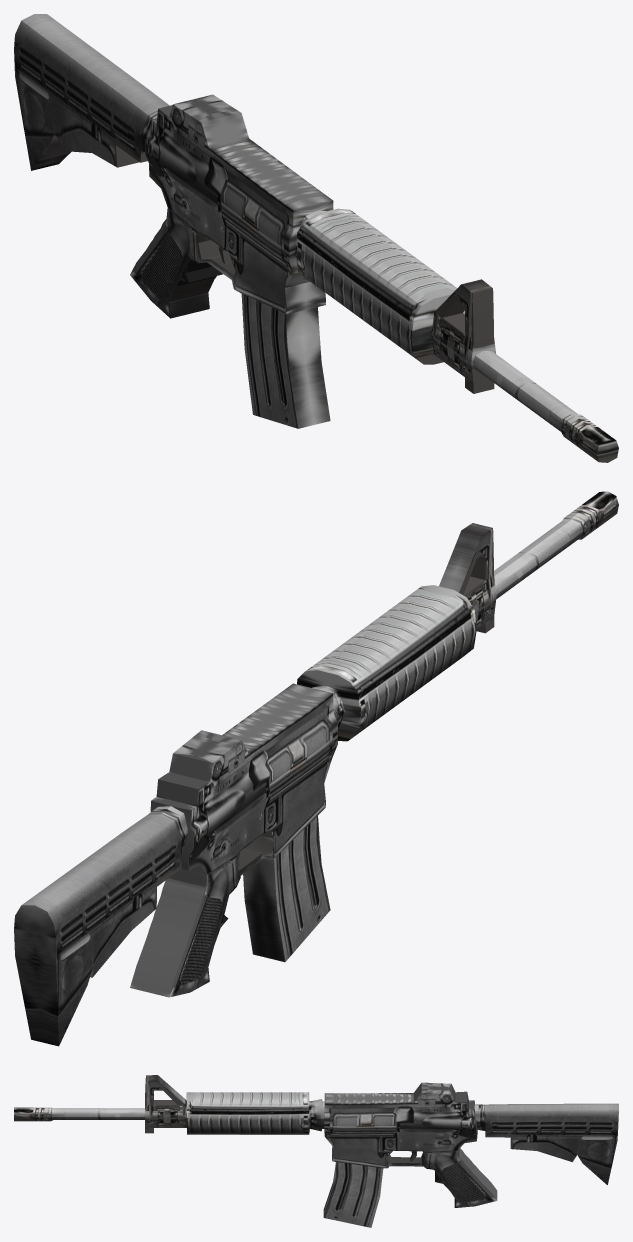
3 renders of one model, top to bottom at view 1: azimuth 30°, elevation 25°; view 2: azimuth 150°, elevation 25°; view 3: azimuth 270°, elevation 25°, orthographic. The views are drawn at different scales.
Parts seen in each view (by area): view 1: Box005; view 2: Box005; view 3: Box005.
Part boxes in pixels (box(x1,y1,x2,y2)): Box005: box(14, 14, 618, 462); Box005: box(14, 491, 618, 1046); Box005: box(14, 1075, 618, 1227).
Size of the model in its own units: 51.51 by 209 by 785.
1 material, 1 textured.
